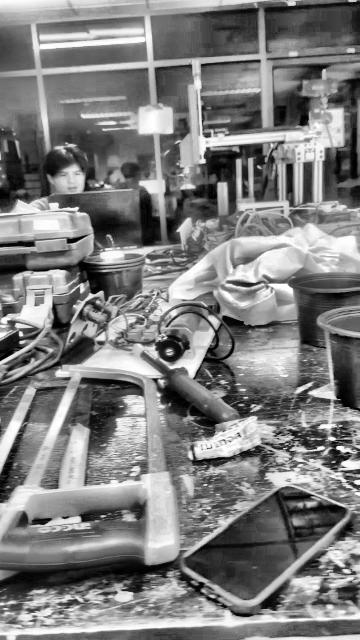pot: (290, 273, 359, 347), (318, 307, 360, 410)
